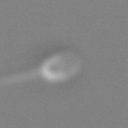normal: (1, 65, 42, 88)
